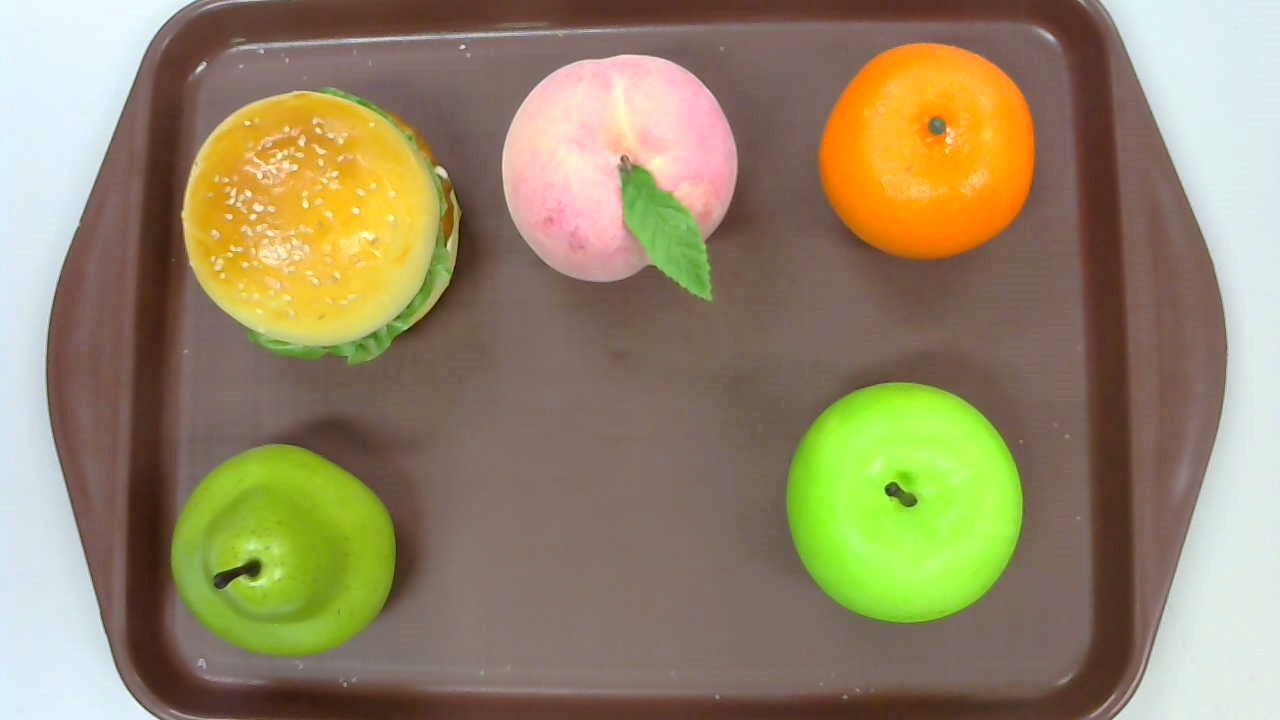green apple: (785, 381, 1023, 624)
green pear: (171, 445, 397, 657)
hamburger: (181, 88, 462, 367)
orange: (817, 43, 1035, 262)
peach: (501, 55, 739, 304)
